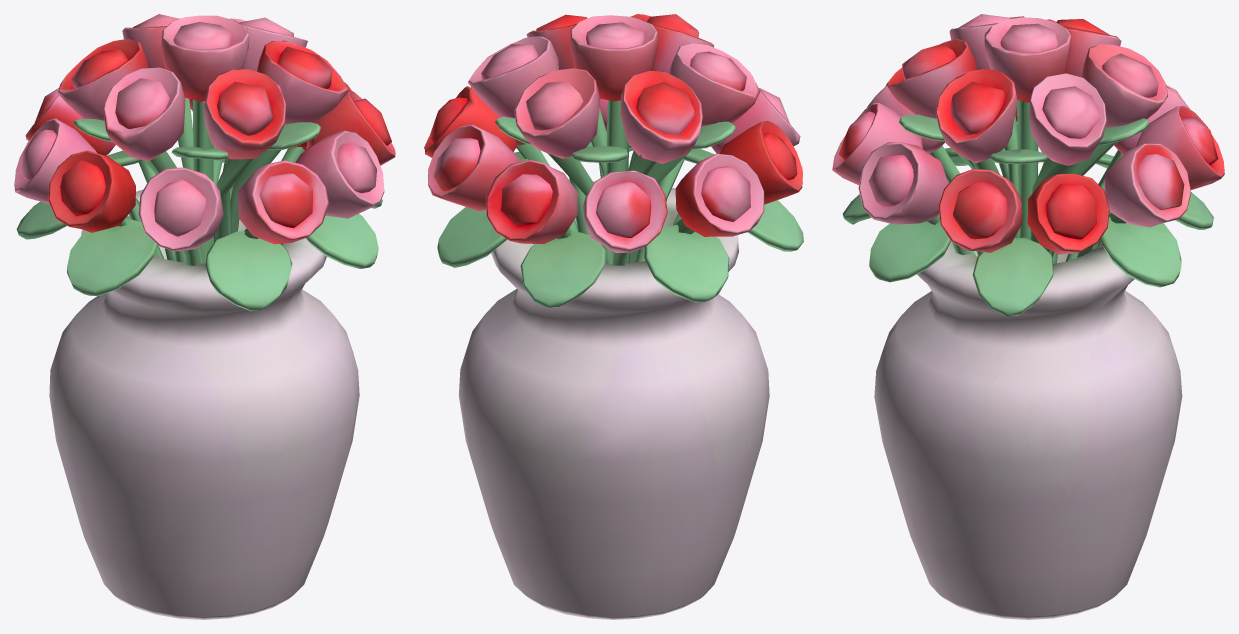
The model's file is rose-vase.glb.
3 renders of one model, left to right at view 1: azimuth 30°, elevation 25°; view 2: azimuth 150°, elevation 25°; view 3: azimuth 270°, elevation 25°, orthographic.
Visible parts, largest first — view 1: geometry_0; view 2: geometry_0; view 3: geometry_0.
Part boxes in pixels (x1,y1,x2,y2): geometry_0: [14, 14, 395, 619]; geometry_0: [424, 14, 803, 619]; geometry_0: [832, 14, 1224, 619].
Bounding box in the file's own units: 0.6345 × 1 × 0.649.
Materials: 1 (1 with a texture image).
